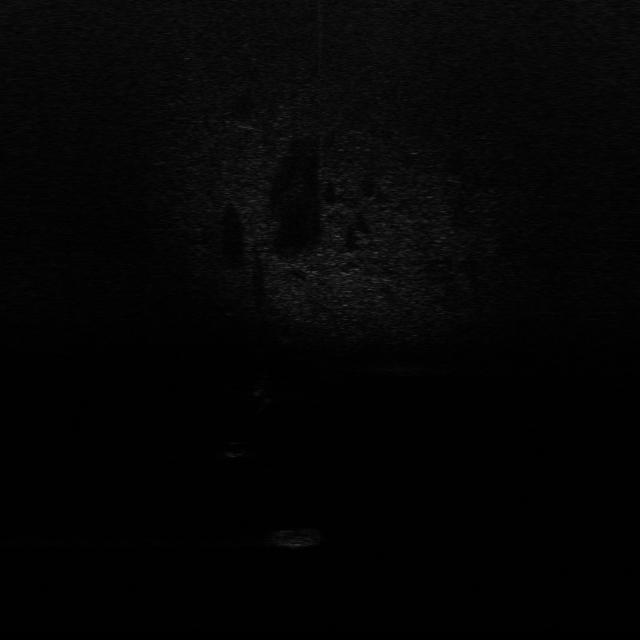ball: (218, 438, 252, 462)
circle cage: (266, 524, 326, 550)
human body: (247, 382, 279, 408)
